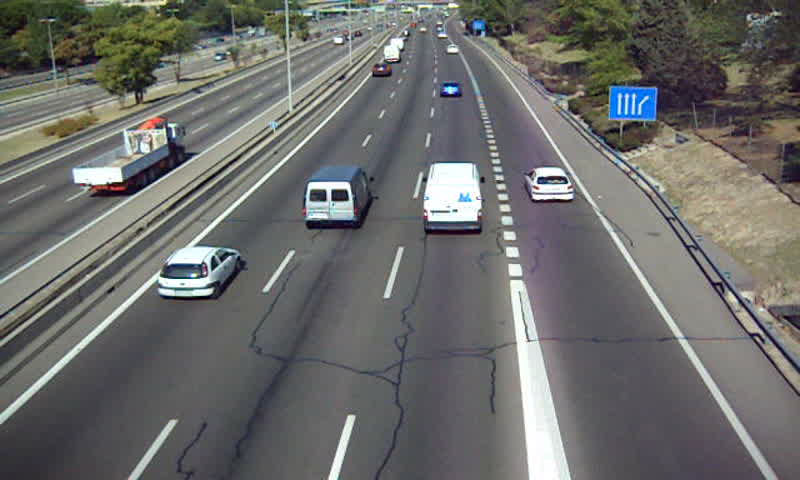car: (156, 246, 241, 298), (525, 167, 576, 202), (439, 80, 463, 98), (370, 63, 391, 78)
van: (303, 166, 373, 227), (423, 163, 483, 233), (383, 45, 400, 64)
